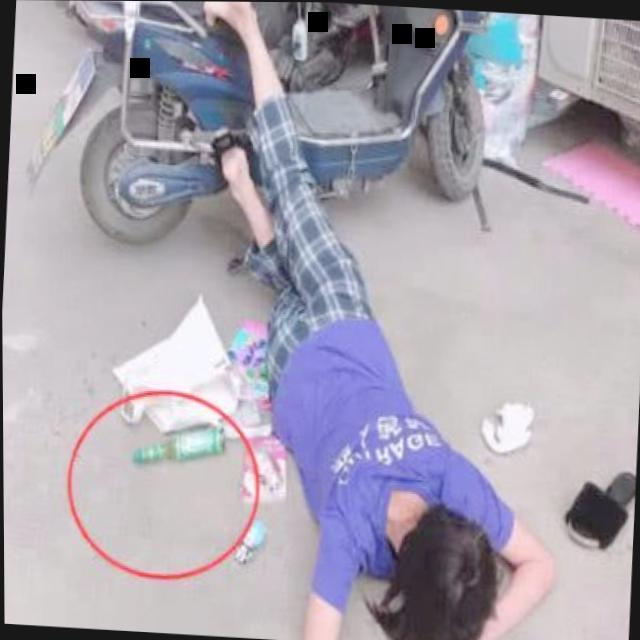Fall-Detected: (139, 1, 580, 640)
